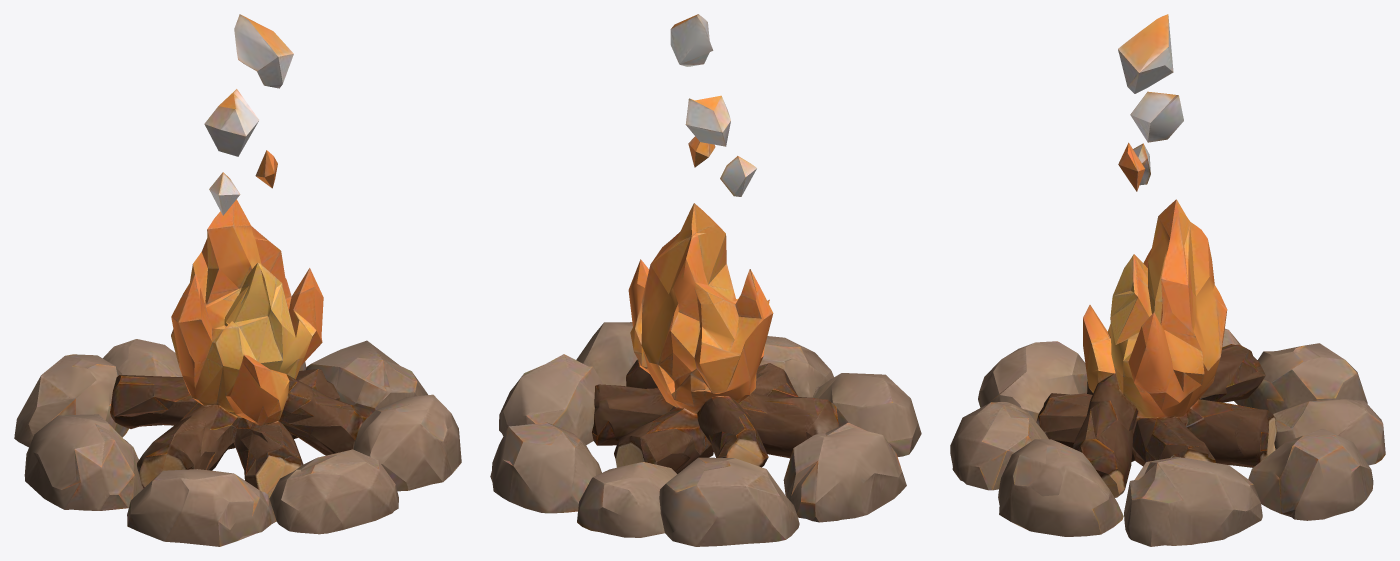
The model's file is campfire.glb.
The picture shows the model from 3 angles, left to right: view 1: azimuth 30°, elevation 25°; view 2: azimuth 150°, elevation 25°; view 3: azimuth 270°, elevation 25°; orthographic projection.
Size of the model in its own units: 1.74 by 1.9 by 1.7.
Materials: 1 (1 with a texture image).
